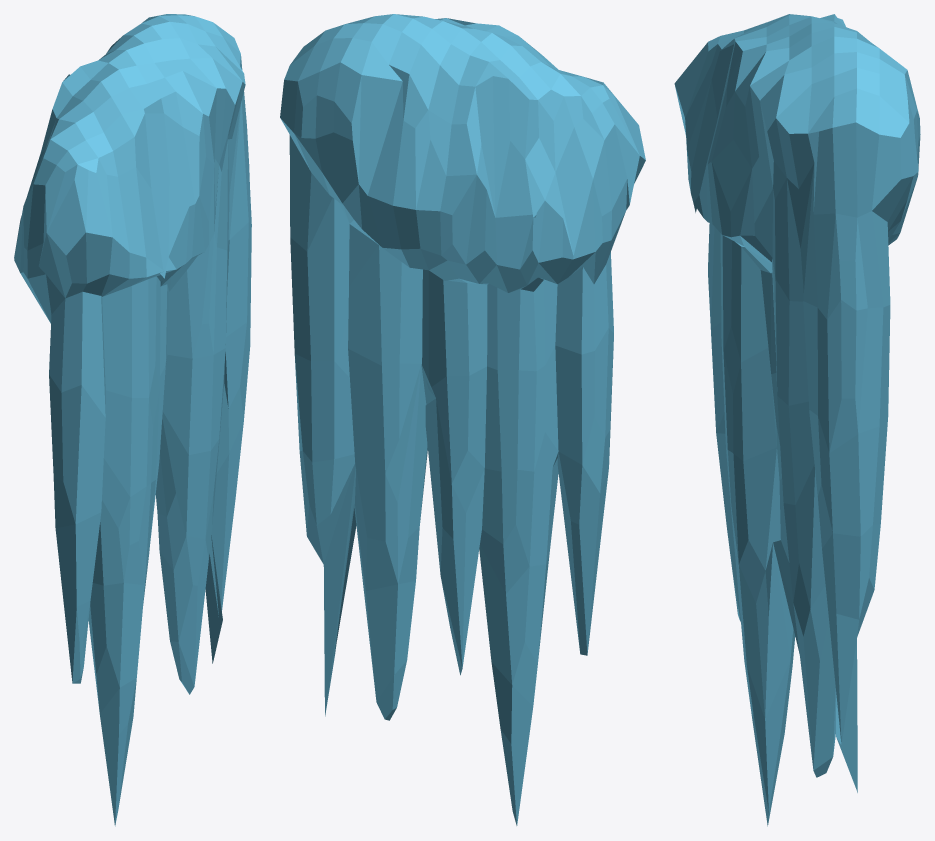
Rendered from icicle (1).fbx.
The picture shows the model from 3 angles, left to right: view 1: azimuth 30°, elevation 25°; view 2: azimuth 150°, elevation 25°; view 3: azimuth 270°, elevation 25°; orthographic projection. The views are drawn at different scales.
Visible parts, largest first — view 1: Sphere.005; view 2: Sphere.005; view 3: Sphere.005.
Part boxes in pixels (x1=…): Sphere.005: x1=14, y1=14, x2=251, y2=826; Sphere.005: x1=280, y1=14, x2=645, y2=825; Sphere.005: x1=674, y1=14, x2=920, y2=826.
Bounding box in the file's own units: 165 × 458 × 122.
